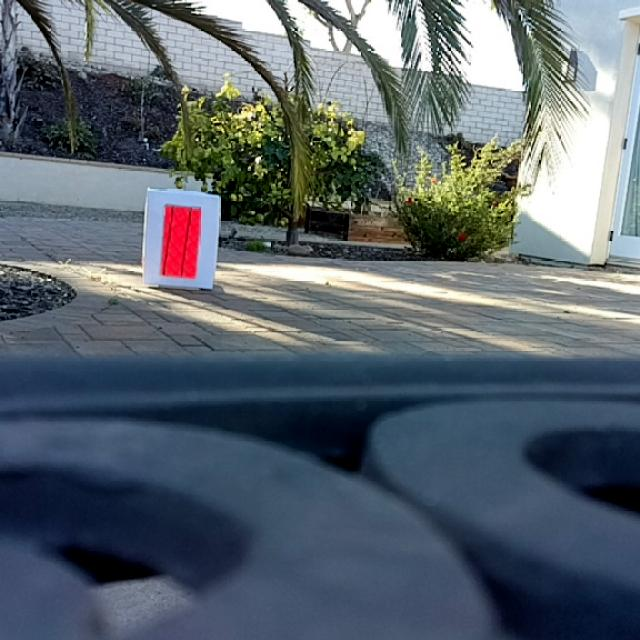led: (160, 202, 202, 280)
